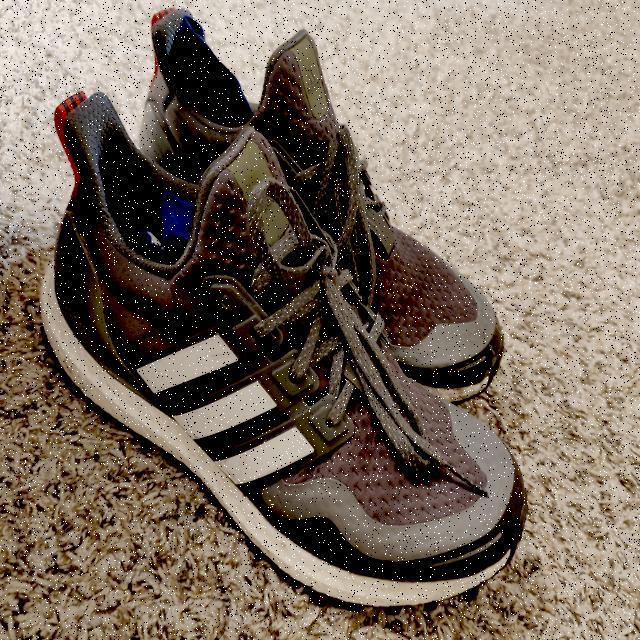black shoes: (61, 16, 527, 606)
